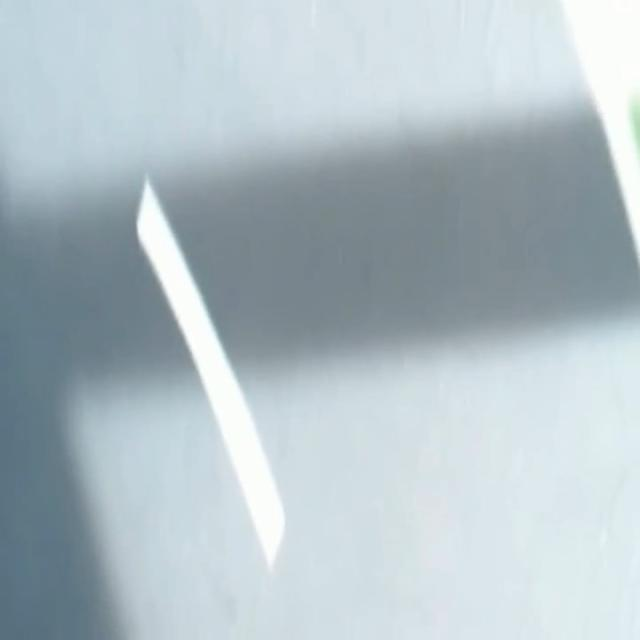center: (137, 177, 284, 567)
right: (559, 0, 639, 269)
